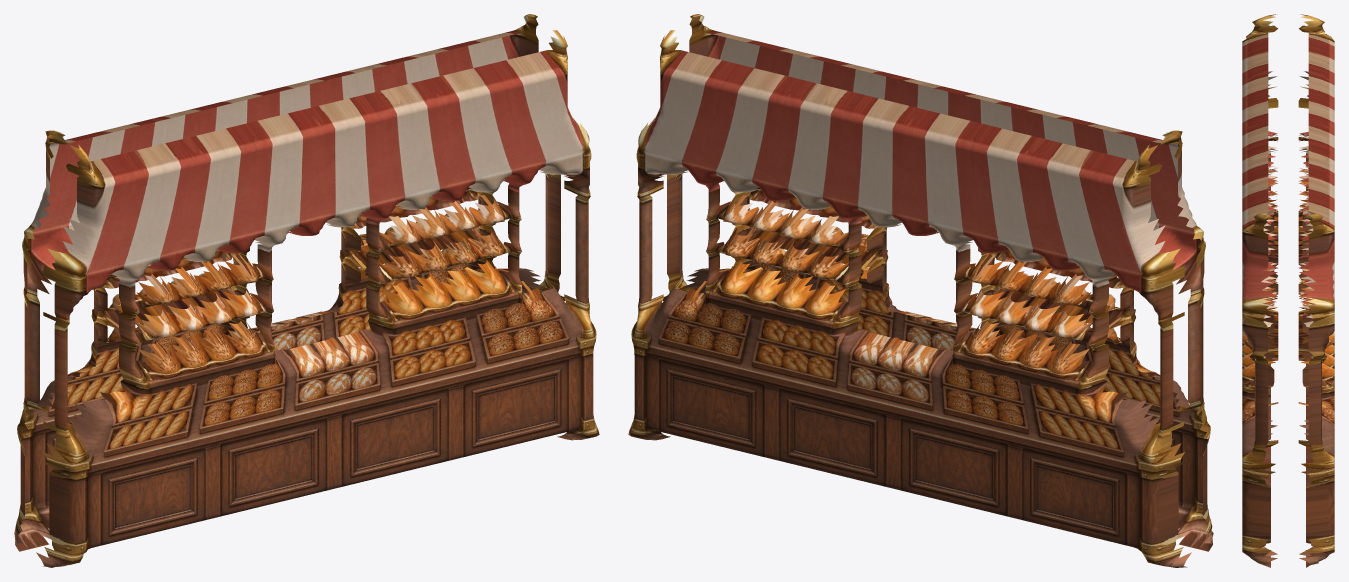
File: v4-market-square-scatter-bread-stall.glb
3 renders of one model, left to right at view 1: azimuth 30°, elevation 25°; view 2: azimuth 150°, elevation 25°; view 3: azimuth 270°, elevation 25°, orthographic. The views are drawn at different scales.
Parts seen in each view (by area): view 1: v4-market-square-scatter-bread-stall; view 2: v4-market-square-scatter-bread-stall; view 3: v4-market-square-scatter-bread-stall.
Part boxes in pixels (x1,y1,x2,y2): v4-market-square-scatter-bread-stall: (14,14,599,567); v4-market-square-scatter-bread-stall: (628,14,1213,567); v4-market-square-scatter-bread-stall: (1242,14,1334,567).
Size of the model in its own units: 1.39 by 0.9813 by 0.24.
Materials: 1 (1 with a texture image).
